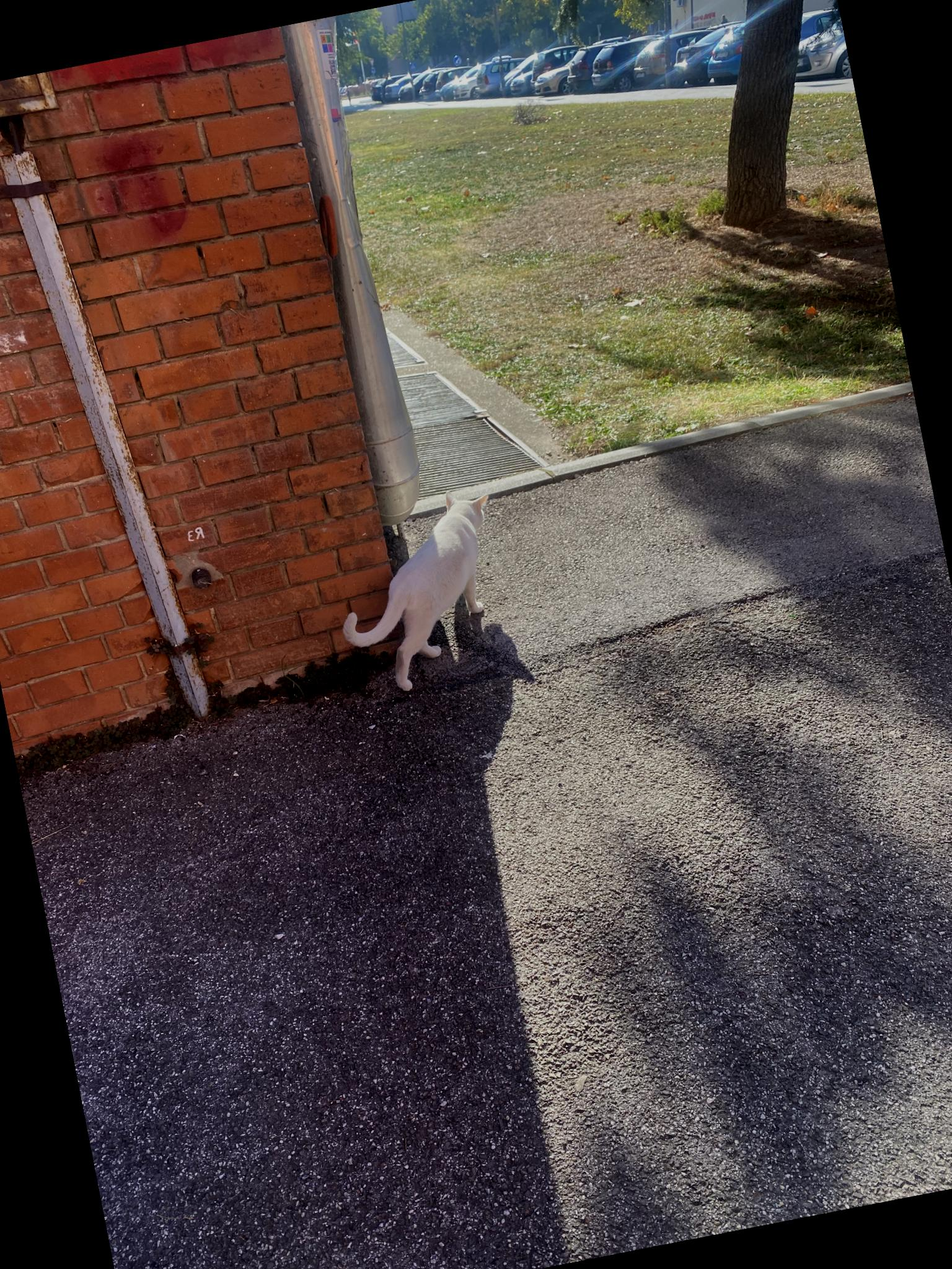macka: (320, 483, 521, 701)
